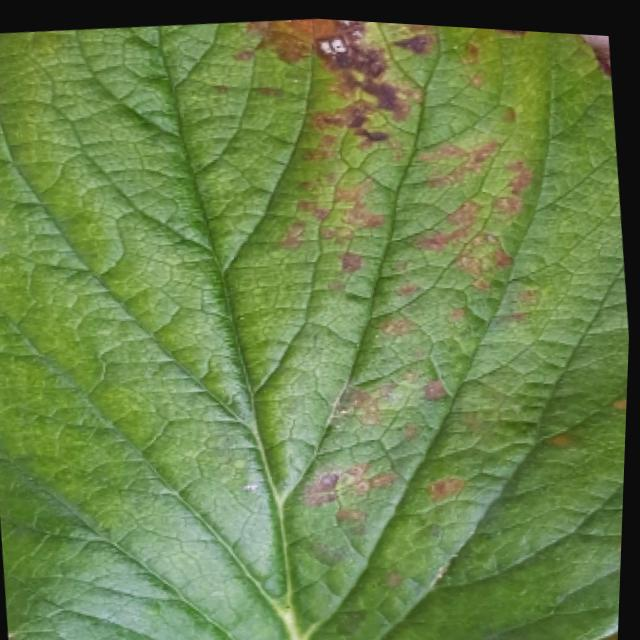Angular Leafspot: (228, 14, 630, 640)
